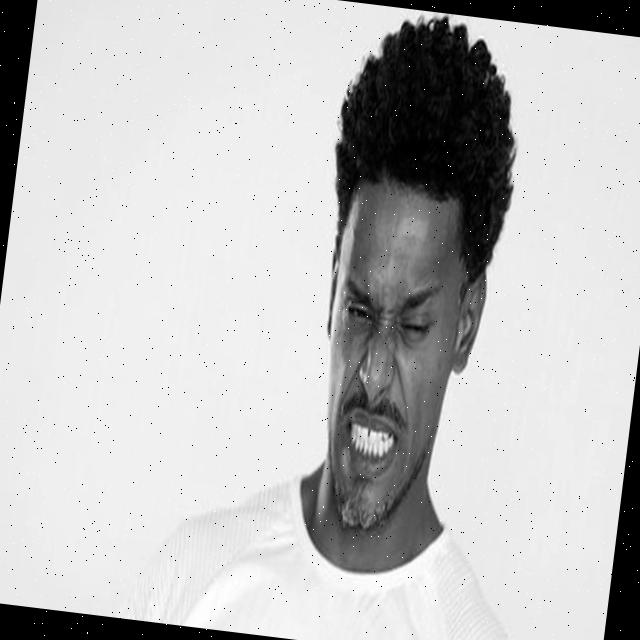Disgust: (300, 172, 478, 544)
